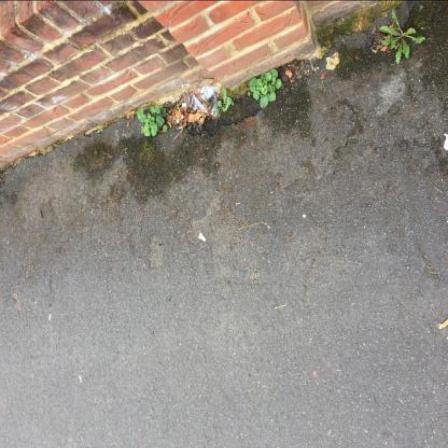Cigarette: (443, 320, 448, 330)
Plastic bag - wrapper: (182, 83, 220, 118)
Unlabeled litter: (199, 233, 207, 242)
